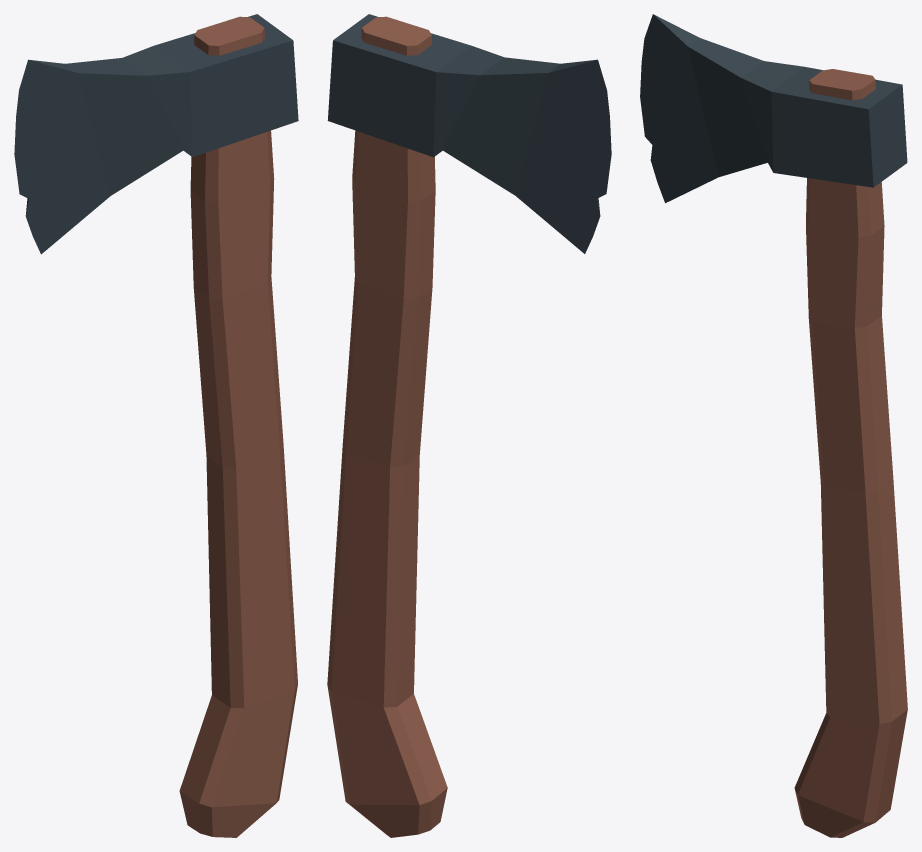
File: Axe.fbx
The picture shows the model from 3 angles, left to right: view 1: azimuth 30°, elevation 25°; view 2: azimuth 150°, elevation 25°; view 3: azimuth 330°, elevation 25°; orthographic projection. The views are drawn at different scales.
Parts seen in each view (by area): view 1: Axe; view 2: Axe; view 3: Axe.
Part boxes in pixels (box(x1,y1,x2,y2)): Axe: box(14, 14, 298, 837); Axe: box(327, 14, 611, 837); Axe: box(640, 14, 907, 837).
Bounding box in the file's own units: 21.67 × 61.68 × 5.
